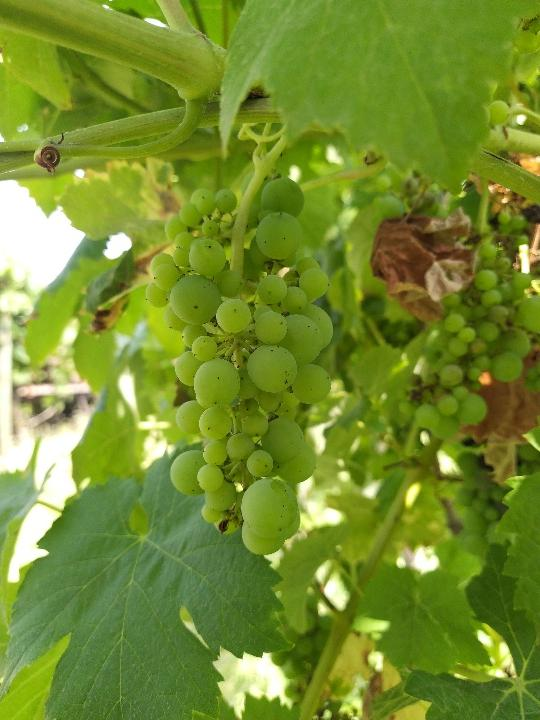grape: (142, 170, 341, 554)
